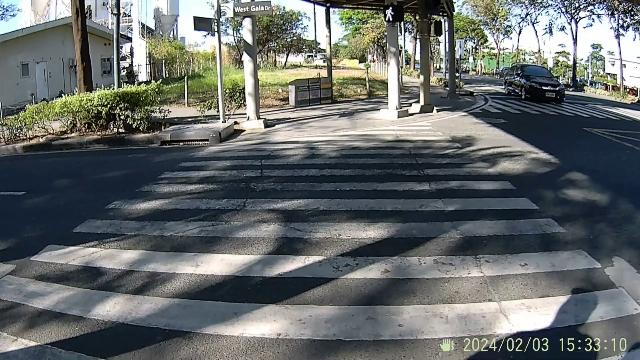car: (503, 64, 561, 96)
garbage: (286, 74, 334, 108)
street_sign: (206, 0, 274, 126)
tree: (68, 0, 96, 108)
utility_post: (236, 16, 268, 128)
